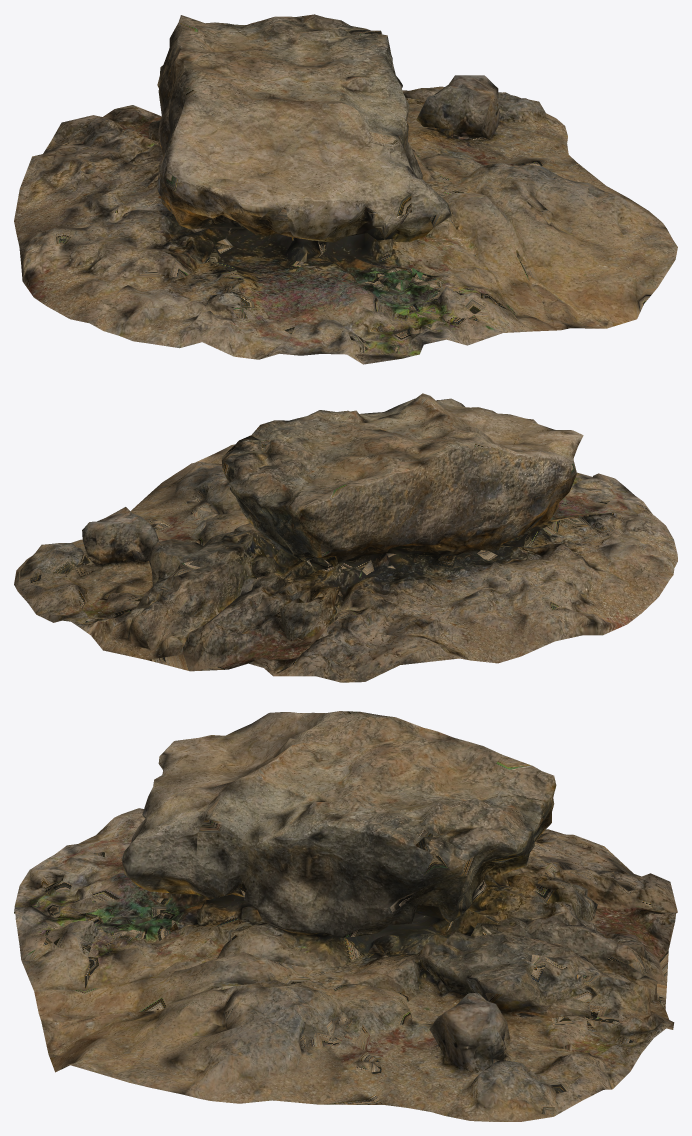
File: coast_rocks_05.glb
The picture shows the model from 3 angles, top to bottom: view 1: azimuth 30°, elevation 25°; view 2: azimuth 150°, elevation 25°; view 3: azimuth 270°, elevation 25°; orthographic projection. The views are drawn at different scales.
Parts seen in each view (by area): view 1: coast_rocks_05; view 2: coast_rocks_05; view 3: coast_rocks_05.
Boxes of the visible parts, <box> form: coast_rocks_05: <box>14,14,677,364</box>; coast_rocks_05: <box>14,393,677,682</box>; coast_rocks_05: <box>14,711,677,1121</box>.
Bounding box in the file's own units: 4.04 × 1.32 × 3.75.
1 material, 1 textured.
